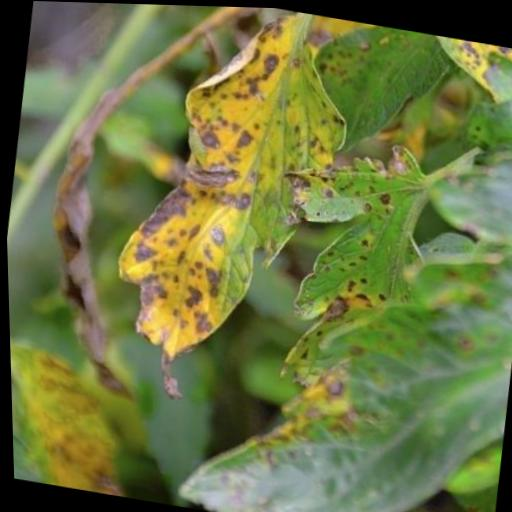Early Blight: (160, 102, 512, 512), (101, 2, 369, 387), (255, 128, 445, 399)
